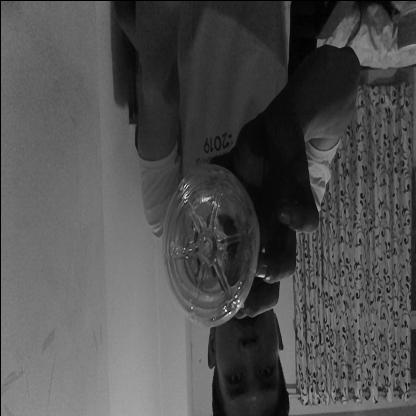plastic_bottles: (162, 158, 260, 330)
